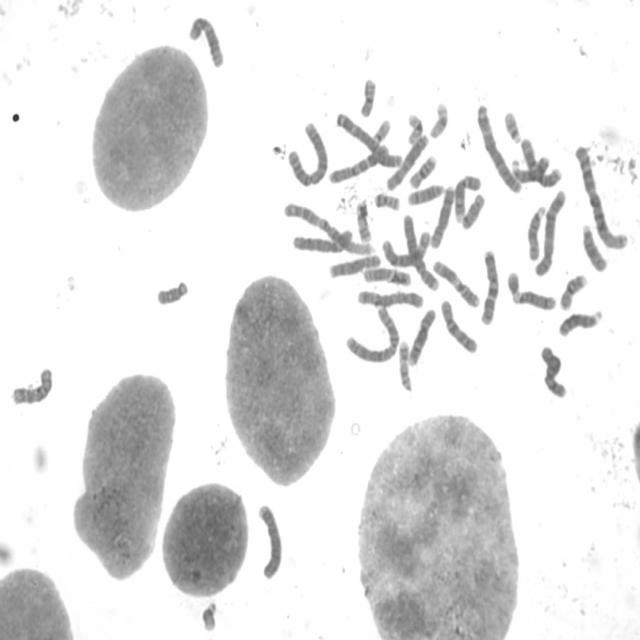A1: (572, 141, 628, 251), (281, 199, 376, 257)
A2: (342, 303, 400, 364), (285, 118, 328, 189)
A3: (475, 100, 522, 195), (334, 108, 404, 169)
B4: (401, 211, 440, 293), (254, 500, 284, 581)
B5: (533, 187, 567, 278), (356, 286, 424, 310)
C10: (438, 296, 479, 356), (8, 364, 54, 408)
C11: (430, 257, 481, 309), (519, 134, 563, 189)
C12: (187, 14, 226, 70), (360, 265, 413, 287)
C6: (379, 227, 431, 269), (290, 226, 355, 255)
C7: (326, 140, 392, 186), (478, 244, 501, 326)
C8: (428, 182, 456, 249), (326, 250, 383, 280)
C9: (406, 305, 436, 369), (451, 171, 482, 224)
D13: (556, 306, 603, 339), (509, 154, 552, 186)
D14: (514, 287, 556, 312), (405, 182, 445, 206)
D15: (580, 220, 608, 272), (525, 202, 547, 262)
E16: (557, 272, 588, 312), (406, 153, 438, 190)
E17: (396, 337, 413, 393), (353, 196, 372, 246)
E18: (459, 190, 486, 230), (156, 279, 188, 307)
F19: (426, 99, 449, 141), (405, 110, 424, 145)
F20: (359, 76, 378, 120), (372, 189, 401, 212)
G21: (200, 598, 219, 632), (506, 268, 522, 300)
G22: (502, 108, 522, 145), (370, 116, 392, 144)
X: (384, 131, 429, 192), (537, 345, 569, 399)
